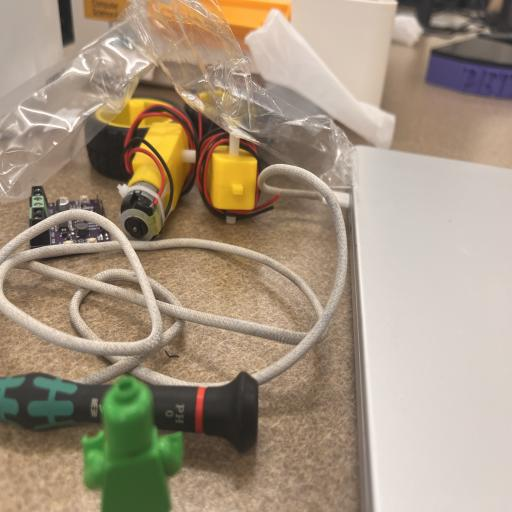Lego-Minifig: (83, 376, 183, 512)
